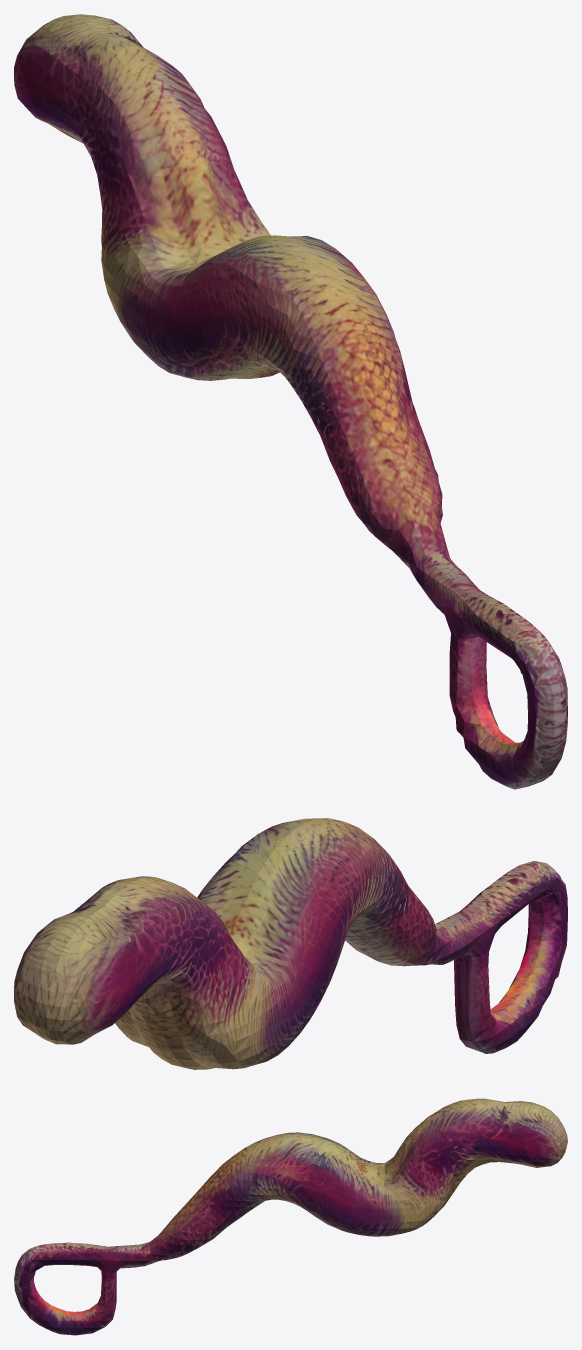
File: Campylobacter.glb
3 renders of one model, top to bottom at view 1: azimuth 30°, elevation 25°; view 2: azimuth 150°, elevation 25°; view 3: azimuth 270°, elevation 25°, orthographic. The views are drawn at different scales.
Visible parts, largest first — view 1: tripo_node_d1009e9e-dc8a-43de-ae95-458b65c41f42; view 2: tripo_node_d1009e9e-dc8a-43de-ae95-458b65c41f42; view 3: tripo_node_d1009e9e-dc8a-43de-ae95-458b65c41f42.
Part boxes in pixels (bbox=[...]): tripo_node_d1009e9e-dc8a-43de-ae95-458b65c41f42: bbox=[14, 14, 567, 789]; tripo_node_d1009e9e-dc8a-43de-ae95-458b65c41f42: bbox=[14, 818, 567, 1069]; tripo_node_d1009e9e-dc8a-43de-ae95-458b65c41f42: bbox=[14, 1098, 567, 1335].
Size of the model in its own units: 0.1639 by 0.4697 by 1.
Materials: 1 (1 with a texture image).
